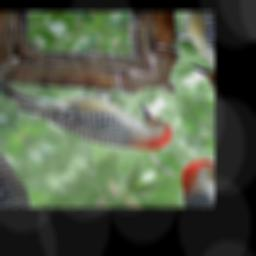Woodpecker: (0, 30, 188, 191)
